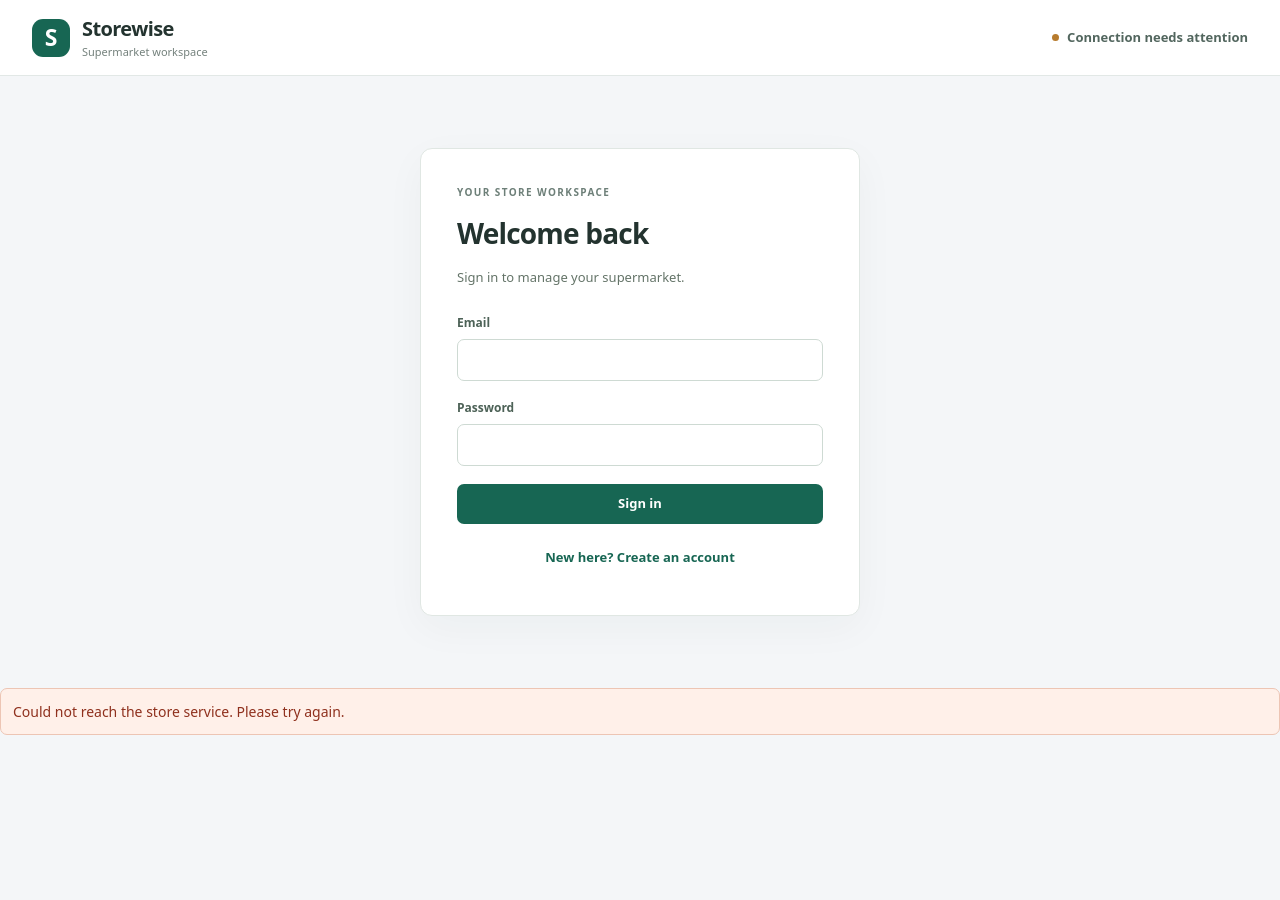
Test: store connectivity › does not show success when the server is unreachable
The width and height of the screenshot is (1280, 900).
Click the heading "Connection needs attention".
click(1150, 37)  # box [1052,28,1248,46]
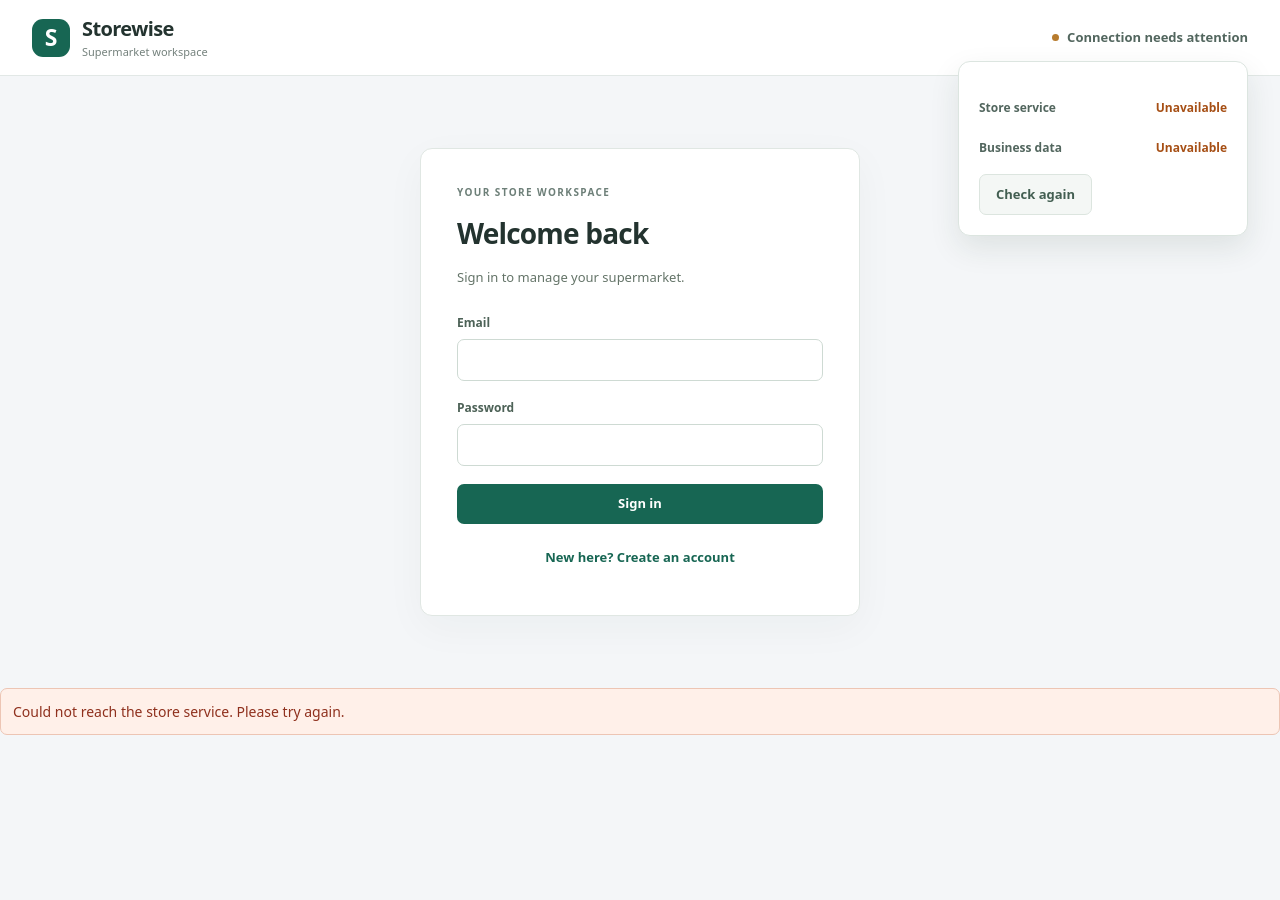
Check: the text "unavailable" is shown 2 times, box [1156,99,1227,117]; [1156,139,1227,157]
